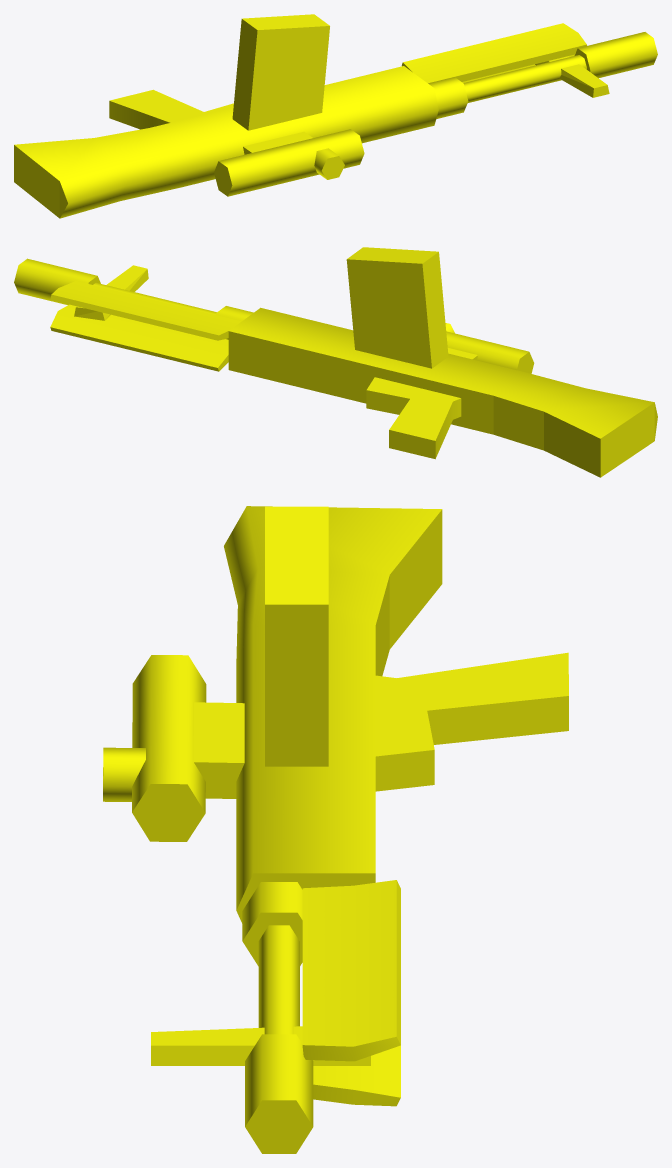
The model's file is weapon_fg42_scope.glb.
The picture shows the model from 3 angles, top to bottom: view 1: azimuth 30°, elevation 25°; view 2: azimuth 150°, elevation 25°; view 3: azimuth 270°, elevation 25°; orthographic projection. The views are drawn at different scales.
Parts seen in each view (by area): view 1: weapon_fg42_scope; view 2: weapon_fg42_scope; view 3: weapon_fg42_scope.
Part boxes in pixels (bbox=[...]): weapon_fg42_scope: bbox=[14, 14, 657, 218]; weapon_fg42_scope: bbox=[14, 247, 657, 477]; weapon_fg42_scope: bbox=[103, 506, 568, 1153].
Bounding box in the file's own units: 1.59 × 0.3451 × 0.5371.
Materials: 1 (1 with a texture image).
